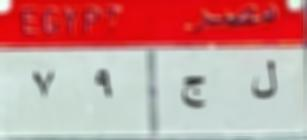7: (29, 59, 60, 105)
9: (89, 65, 120, 104)
jeem: (172, 70, 212, 114)
laam: (245, 59, 285, 101)
